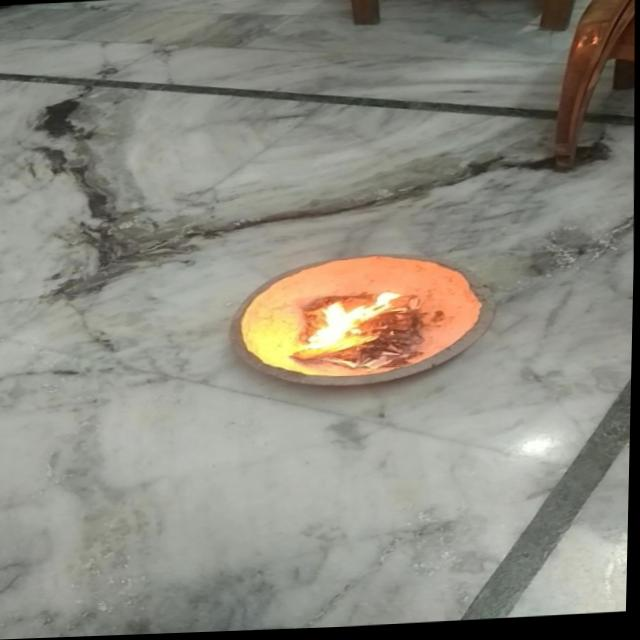fire: (294, 290, 407, 362)
